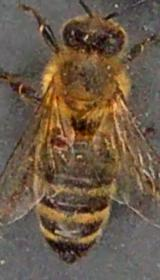varroa_mite: (42, 126, 78, 156)
